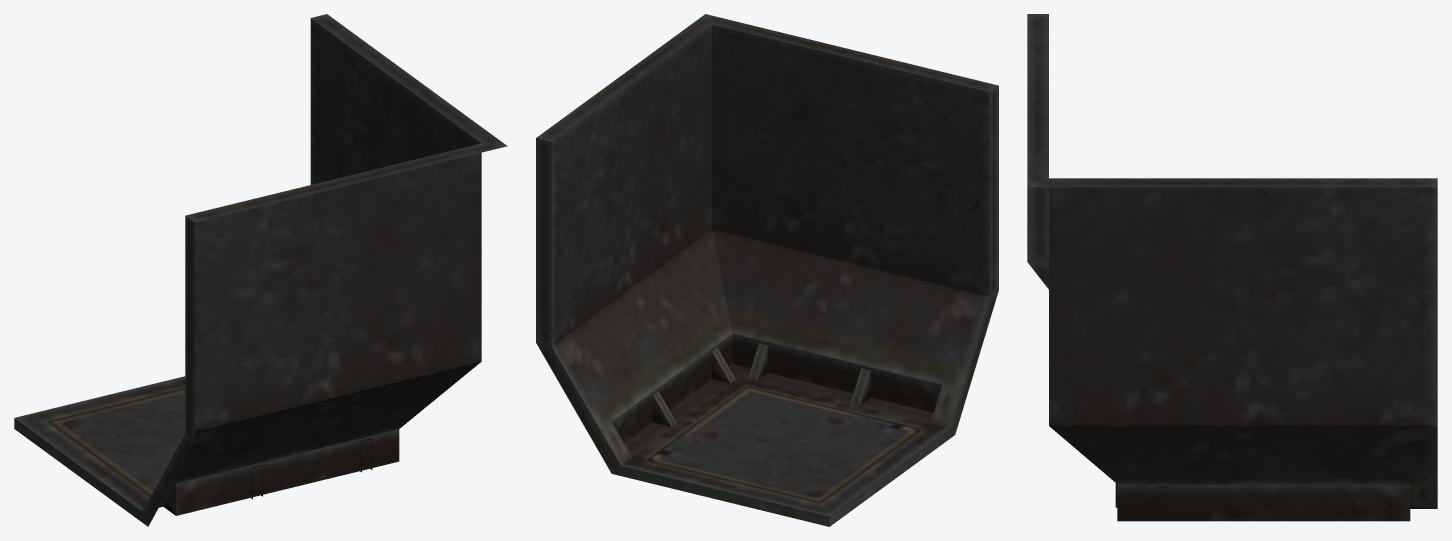
File: Wall_internal_1_corner_in.FBX
3 views of the same model, side by side, from view 1: azimuth 30°, elevation 25°; view 2: azimuth 150°, elevation 25°; view 3: azimuth 270°, elevation 25° (orthographic). The views are drawn at different scales.
Visible parts, largest first — view 1: Wall_internal_1_corner_in; view 2: Wall_internal_1_corner_in; view 3: Wall_internal_1_corner_in.
Boxes of the visible parts, bbox=[...] form: Wall_internal_1_corner_in: bbox=[14, 14, 507, 526]; Wall_internal_1_corner_in: bbox=[536, 14, 998, 526]; Wall_internal_1_corner_in: bbox=[1027, 14, 1437, 521].
Bounding box in the file's own units: 300 × 310 × 300.
